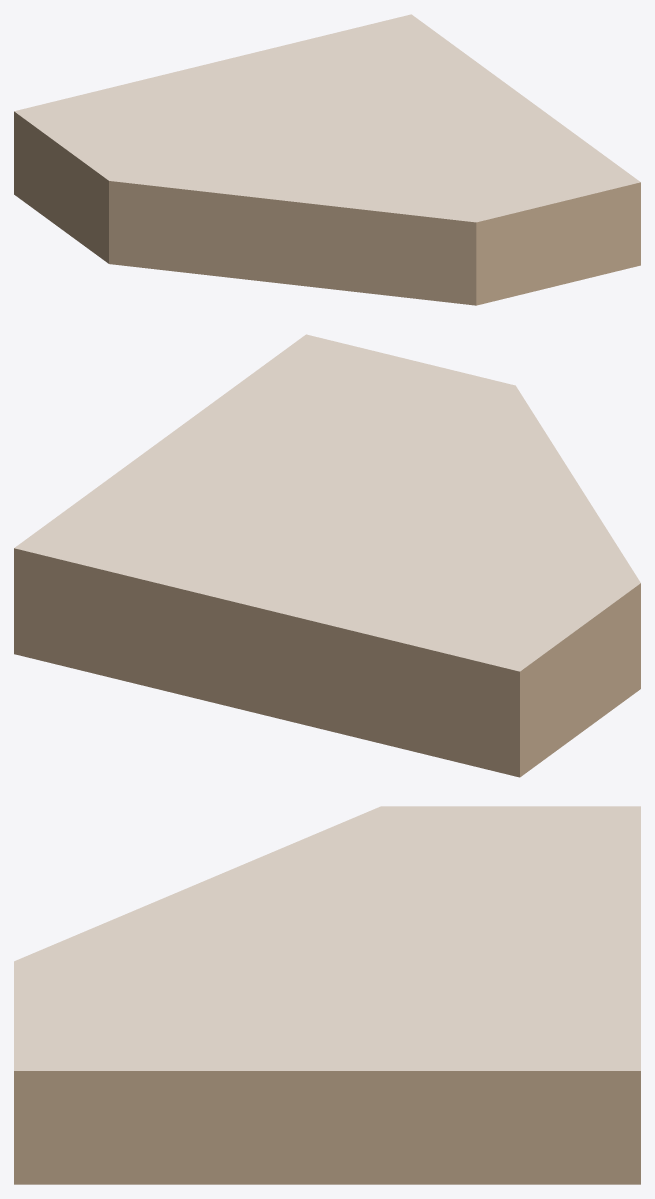
Rendered from Floor_Curved_Small.fbx.
3 views of the same model, one above another, from view 1: azimuth 30°, elevation 25°; view 2: azimuth 150°, elevation 25°; view 3: azimuth 270°, elevation 25° (orthographic). The views are drawn at different scales.
Parts seen in each view (by area): view 1: Sandstone_Floor, Sandstone_Trim.object1; view 2: Sandstone_Floor, Sandstone_Trim.object1; view 3: Sandstone_Floor, Sandstone_Trim.object1.
Part boxes in pixels (box(x1,y1,x2,y2)): Sandstone_Floor: box(14, 14, 640, 222); Sandstone_Trim.object1: box(14, 111, 640, 305); Sandstone_Floor: box(14, 334, 640, 671); Sandstone_Trim.object1: box(14, 548, 640, 777); Sandstone_Floor: box(14, 806, 640, 1070); Sandstone_Trim.object1: box(14, 1071, 640, 1184).
Size of the model in its own units: 1 by 0.2 by 1.
